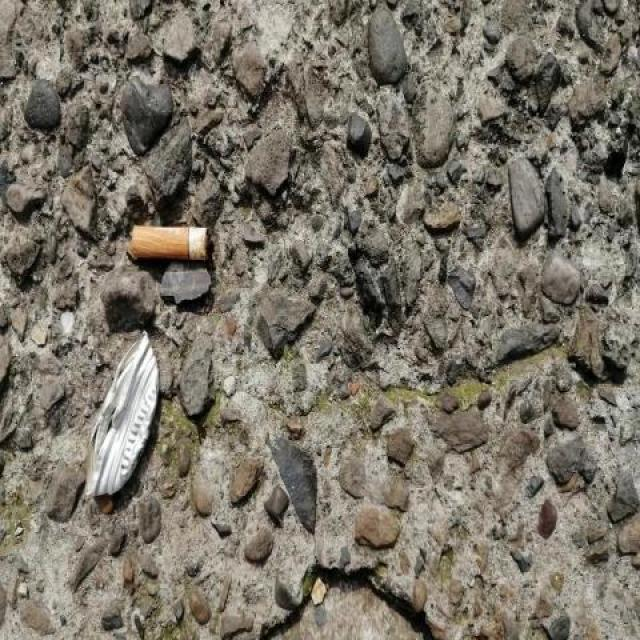non-organic waste: (126, 218, 218, 273)
